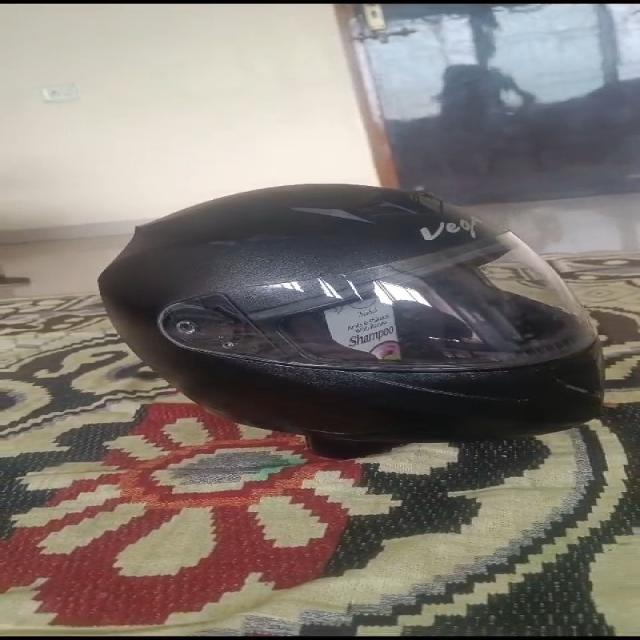Helmet: (96, 183, 605, 447)
